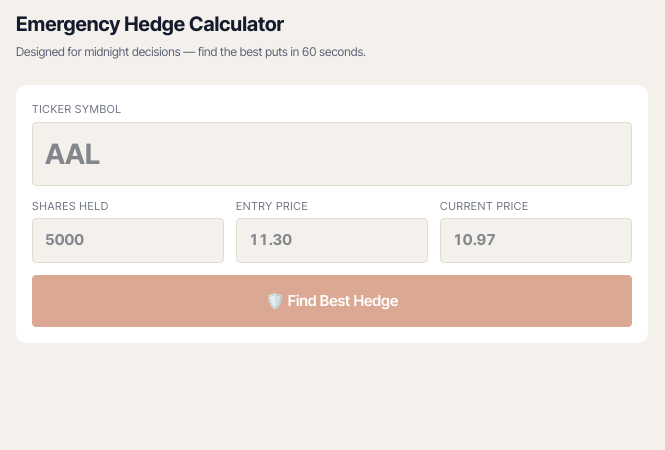
EmergencyHedge › shows error message on API failure
This screenshot has width=665, height=450.
In the field with placeholder "AAL": (332, 154) [32,122,632,186], type "XYZ"
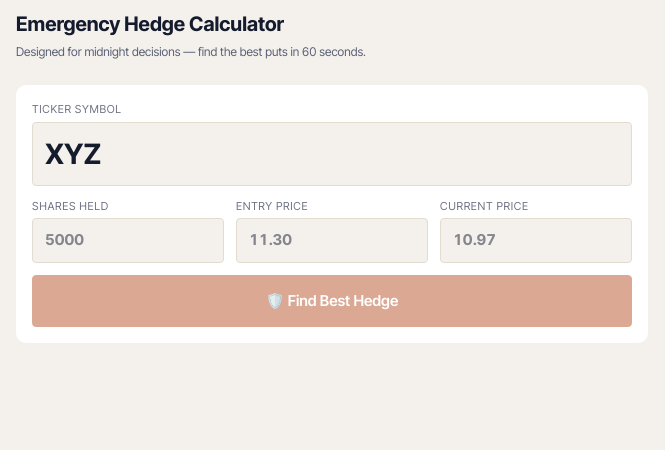
In the number field with placeholder "5000": (128, 240) [32,218,224,262], type "100"
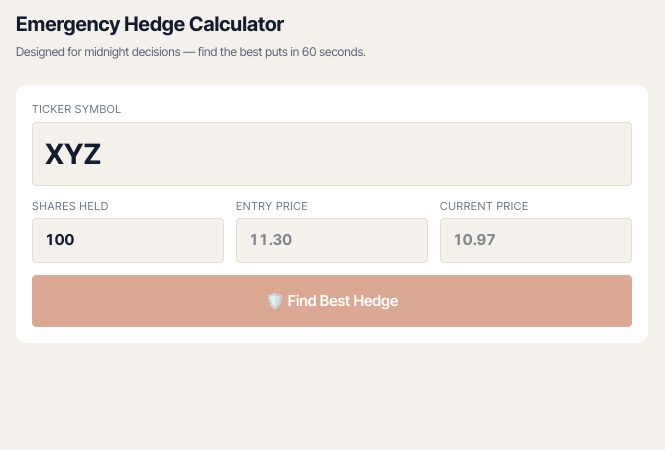
In the number field with placeholder "10.97": (536, 240) [440,218,632,262], type "1.00"
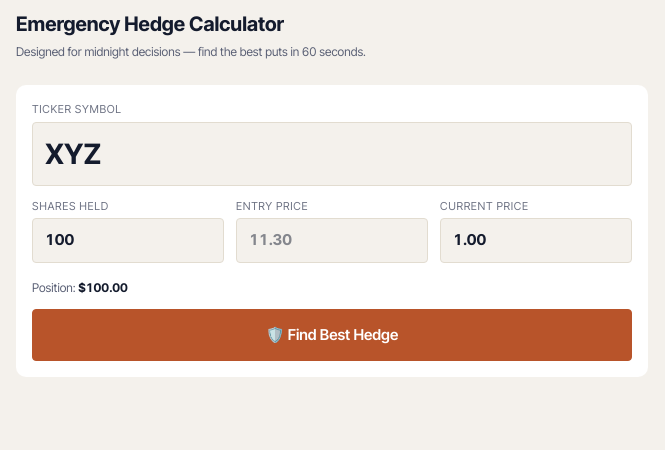
Click the button "🛡️ Find Best Hedge": (332, 335) [32,308,632,361]
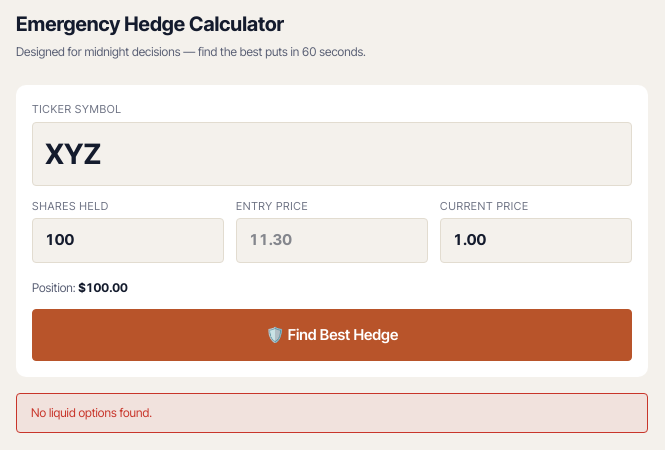
Check: the text "No liquid options found." is shown, box [16,393,648,433]
